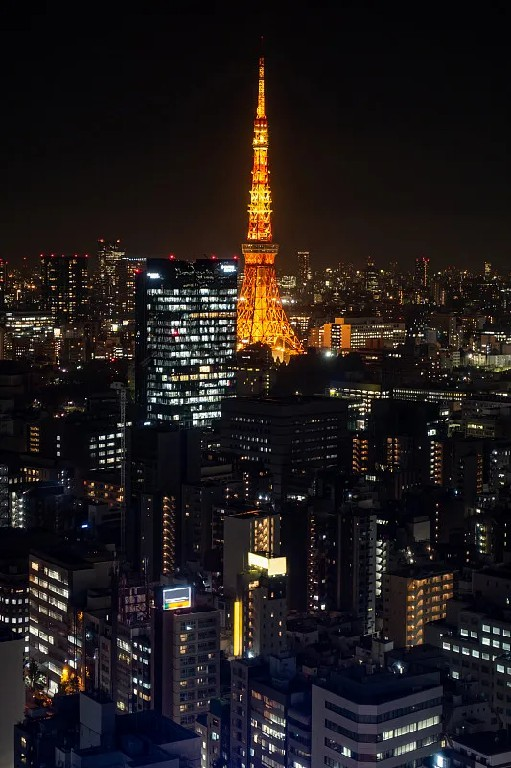Tokyo: (233, 30, 305, 367)
